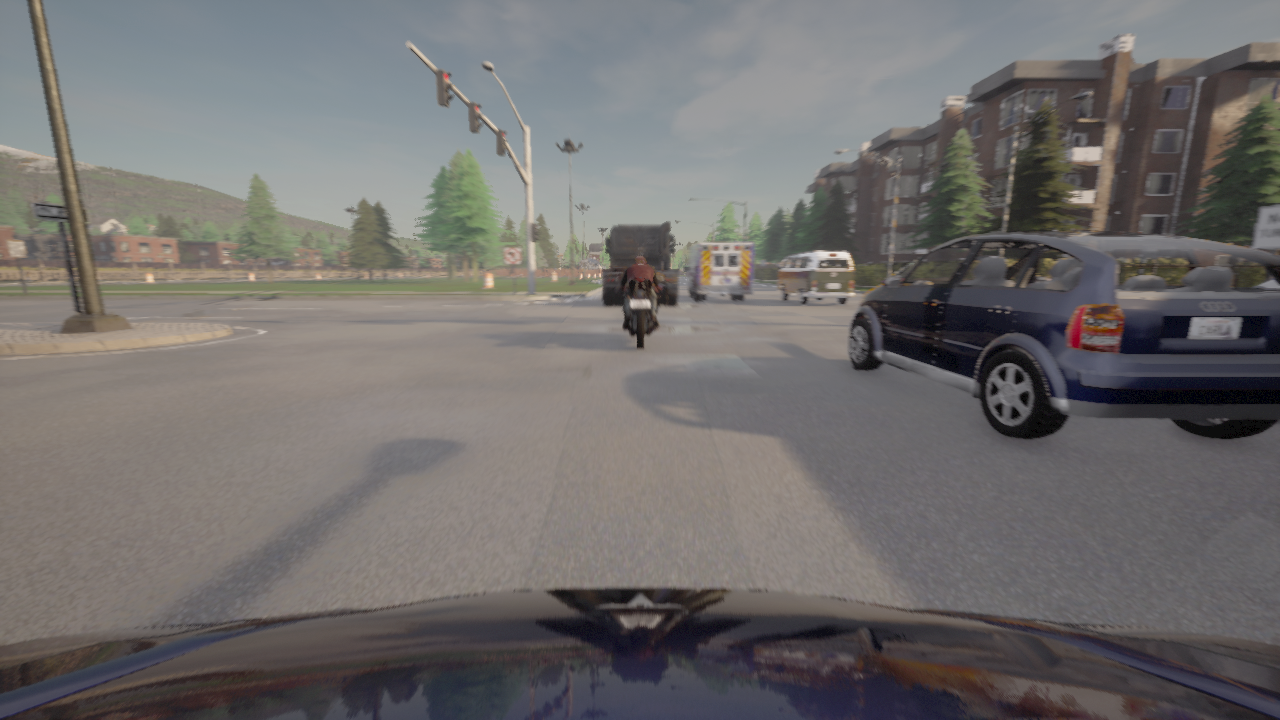cyclist: (0, 588, 1279, 719), (847, 232, 1279, 439), (602, 223, 677, 305), (777, 251, 853, 304), (683, 243, 753, 300), (617, 274, 662, 349)
